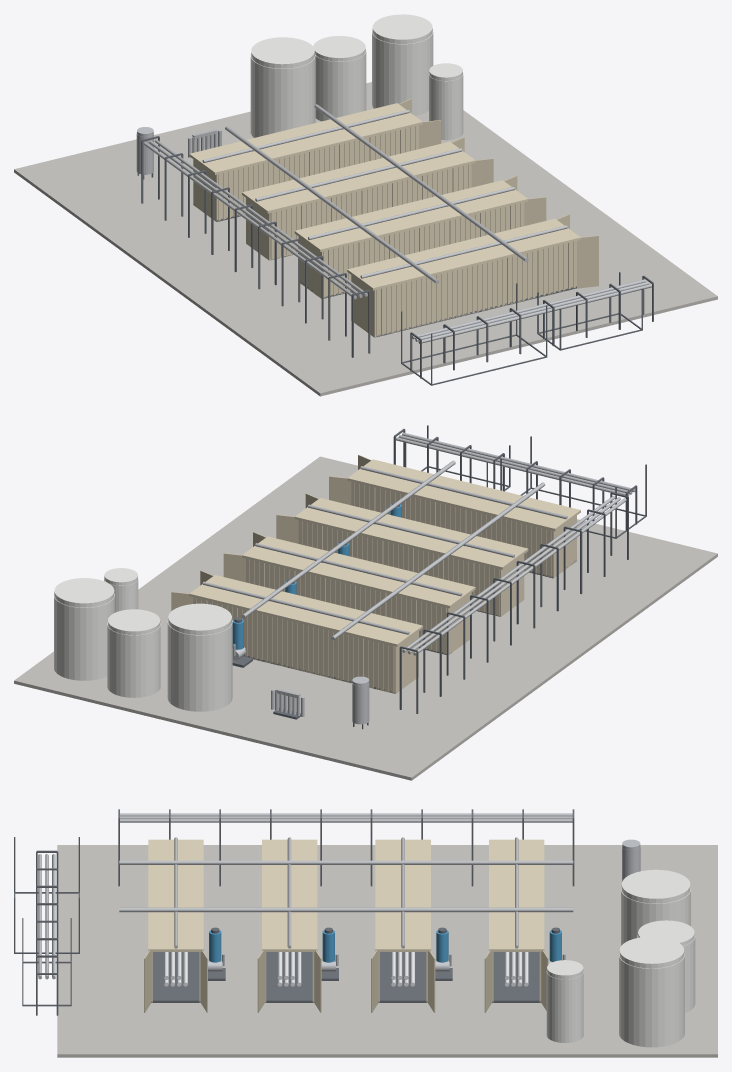
Rendered from ro_skid.glb.
The picture shows the model from 3 angles, top to bottom: view 1: azimuth 30°, elevation 25°; view 2: azimuth 150°, elevation 25°; view 3: azimuth 270°, elevation 25°; orthographic projection. The views are drawn at different scales.
Parts seen in each view (by area): view 1: PAD-1__slab, A25-1, A25-1__side_m, RM-1, A25-4__roof, A25-2__roof, A25-1__roof, A25-3__roof, TK-1__shell, TK-3__shell, PR-1, A25-2 (+16 smaller); view 2: PAD-1__slab, RM-1, A25-1__roof, A25-4__roof, A25-3__roof, A25-2__roof, TK-1__shell, A25-4, A25-4__side_p, TK-3__shell, TK-2__shell, PR-1 (+20 smaller); view 3: PAD-1__slab, RM-1, A25-1__roof, A25-3__roof, A25-2__roof, A25-4__roof, TK-3__shell, PR-1, TK-4__shell, TK-1__top, TK-1__shell, A25-1__floor (+20 smaller).
Boxes of the visible parts, x1,y1,x2,y2 form: PAD-1__slab: (14, 82, 717, 396); A25-1: (376, 241, 575, 335); A25-1__side_m: (373, 241, 576, 336); RM-1: (202, 104, 567, 283); A25-4__roof: (189, 103, 422, 174); A25-2__roof: (294, 180, 528, 251); A25-1__roof: (347, 218, 580, 290); A25-3__roof: (242, 141, 475, 213); TK-1__shell: (250, 53, 315, 137); TK-3__shell: (372, 30, 433, 115); PR-1: (142, 136, 369, 299); A25-2: (323, 202, 523, 297); PAD-1__slab: (14, 456, 717, 780); RM-1: (202, 460, 567, 640); A25-1__roof: (347, 459, 580, 531); A25-4__roof: (189, 575, 422, 646); A25-3__roof: (242, 536, 475, 608); A25-2__roof: (294, 498, 528, 569); TK-1__shell: (167, 619, 232, 711); A25-4: (194, 597, 394, 692); A25-4__side_p: (193, 597, 395, 693); TK-3__shell: (54, 593, 114, 680); TK-2__shell: (107, 622, 160, 697); PR-1: (400, 492, 628, 655); PAD-1__slab: (57, 845, 717, 1057); RM-1: (119, 837, 573, 948); A25-1__roof: (148, 839, 203, 951); A25-3__roof: (375, 839, 430, 951); A25-2__roof: (262, 839, 317, 951); A25-4__roof: (489, 839, 544, 951); TK-3__shell: (619, 952, 684, 1047); PR-1: (118, 809, 574, 822); TK-4__shell: (546, 970, 583, 1042); TK-1__top: (621, 869, 690, 903); TK-1__shell: (621, 886, 690, 945); A25-1__floor: (151, 952, 200, 1002).
Bounding box in the file's own units: 24 × 4.84 × 34.1.
